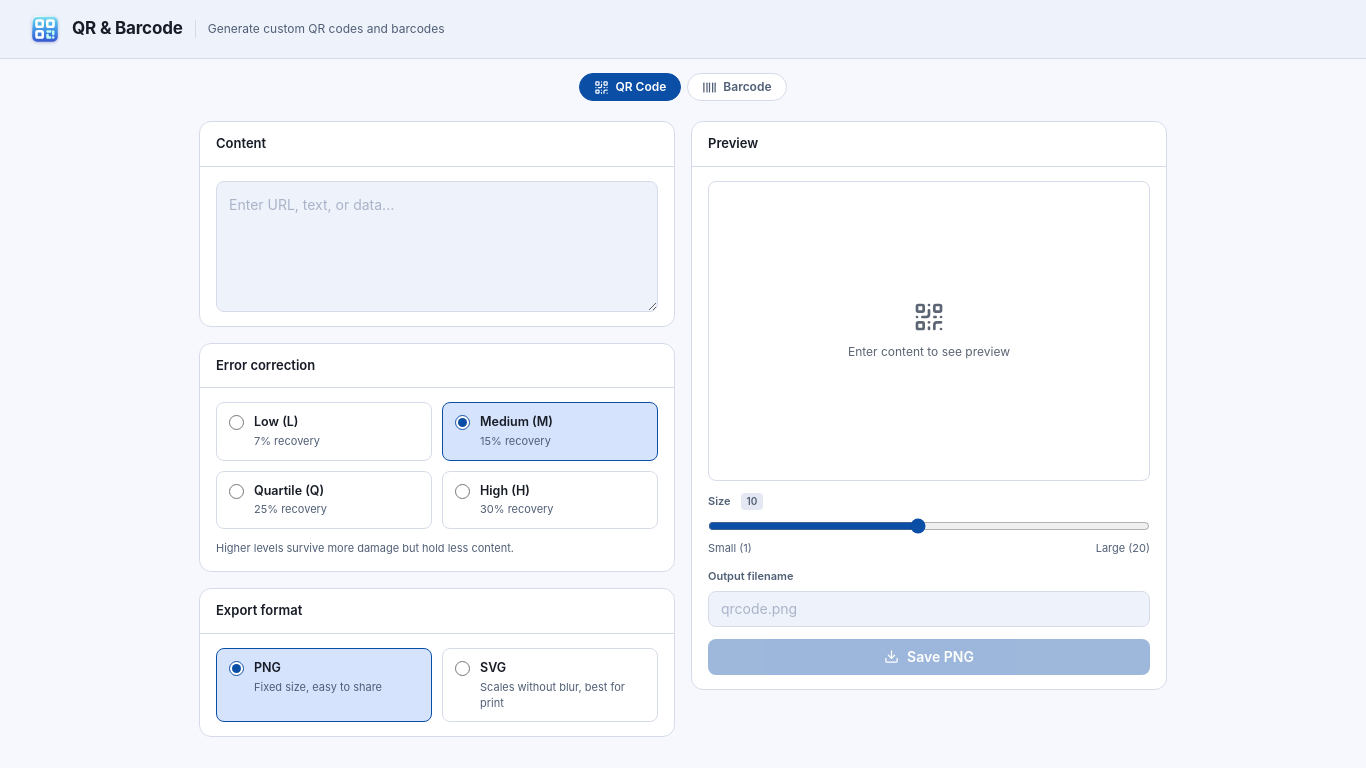
Test: QrBarcodePage › generates the preview once per content change instead of re-requesting in a loop
Type "hello world" into the text box labelled "Content" at {"x": 437, "y": 246}, box [216,180,658,312]
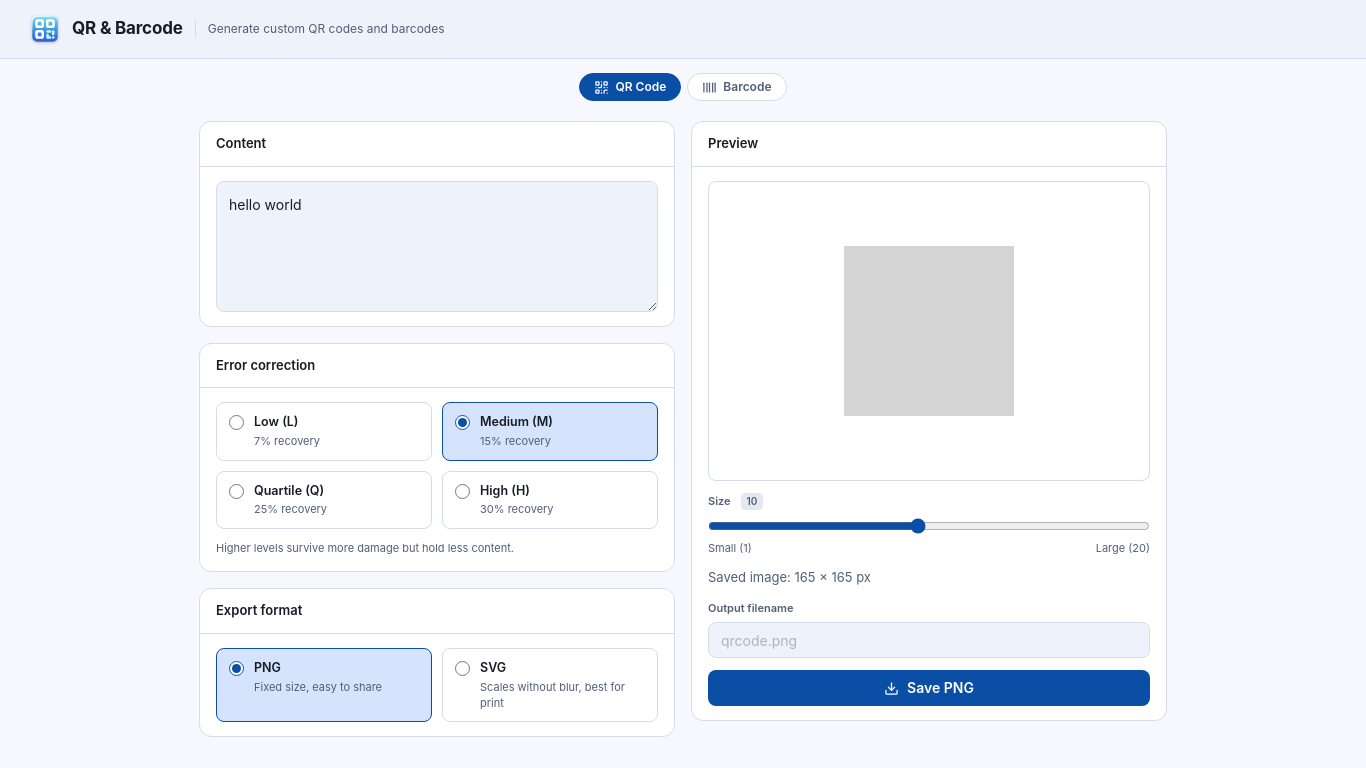
Check: the button "Save PNG" is enabled, box [708,670,1150,706]
